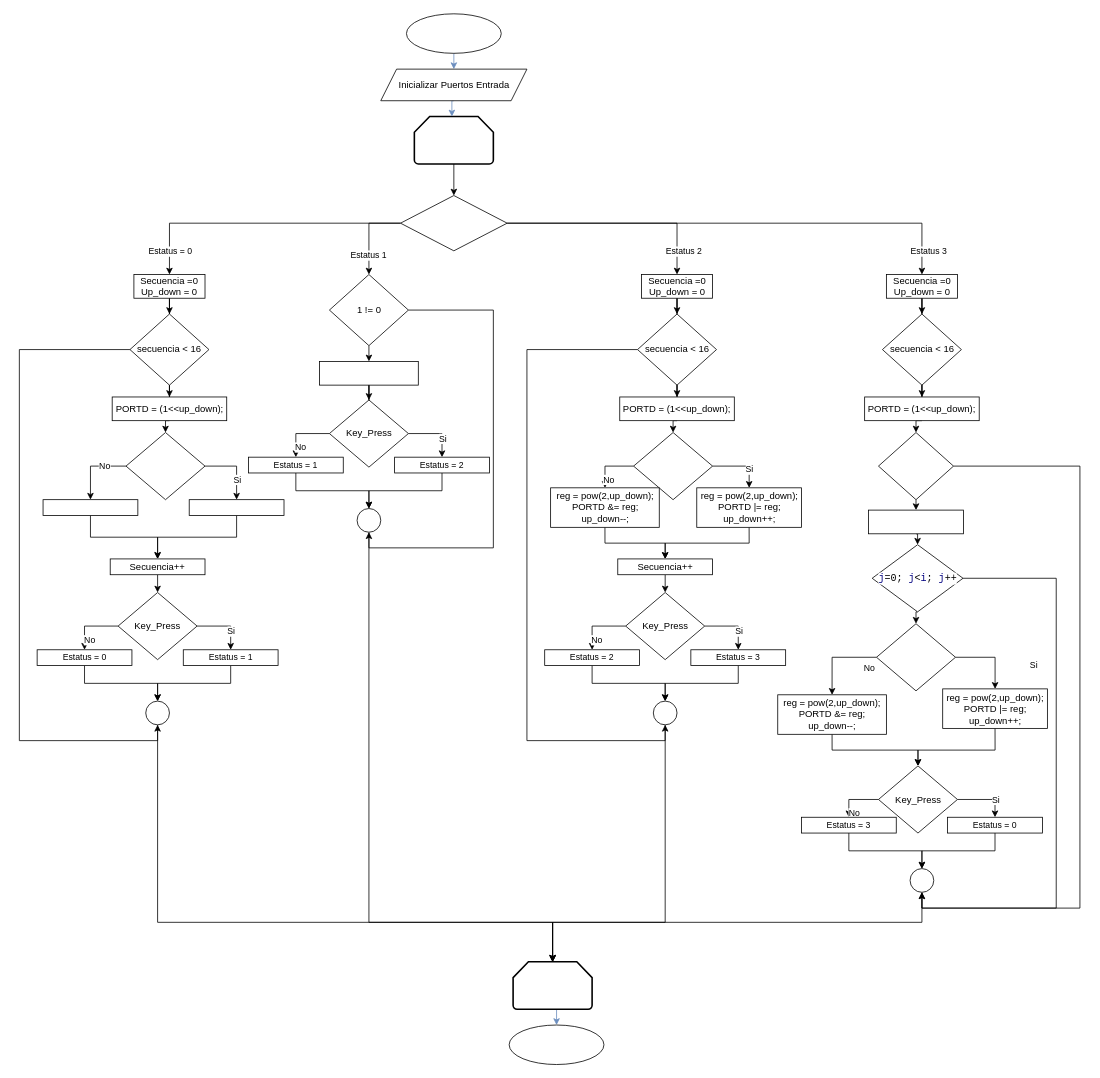
The diagram is 1100 pixels wide and 1078 high, and some of its shapes have lost their labels. The shapes that lost their labels are listed below. From the top down, each one's centre as x and y in pixels, then its label:
At (453,33): "INICIO".
At (453,139): "LOOP".
At (453,223): "Estatus".
At (368,373): "PORTD = 0xFF; PORTD = 0x00;".
At (165,466): "Secuencia < 7".
At (673,466): "Secuencia < 8".
At (916,466): "i=4; i<20; i+=2".
At (90,507): "Up_down--".
At (236,507): "Up_down++".
At (915,521): "half = i / 2; up_down = 0;".
At (916,657): "j >= half".
At (556,1044): "FIN".
